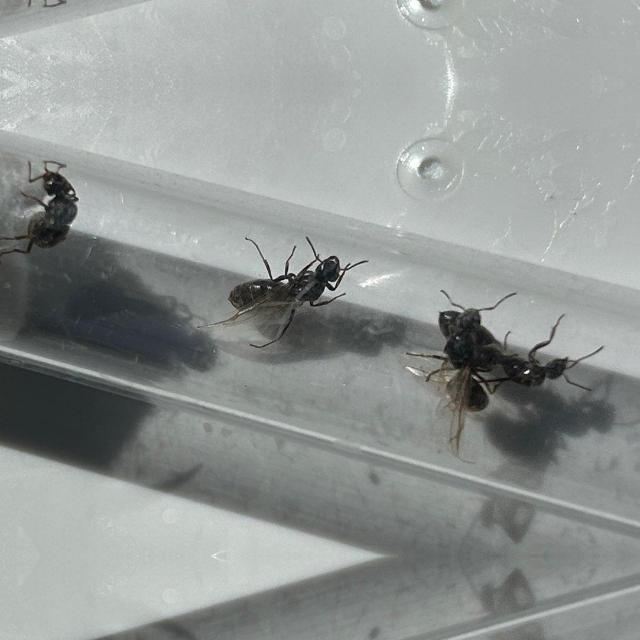Lasius: (220, 219, 356, 331), (416, 291, 510, 447), (436, 302, 594, 393), (0, 150, 82, 258)
